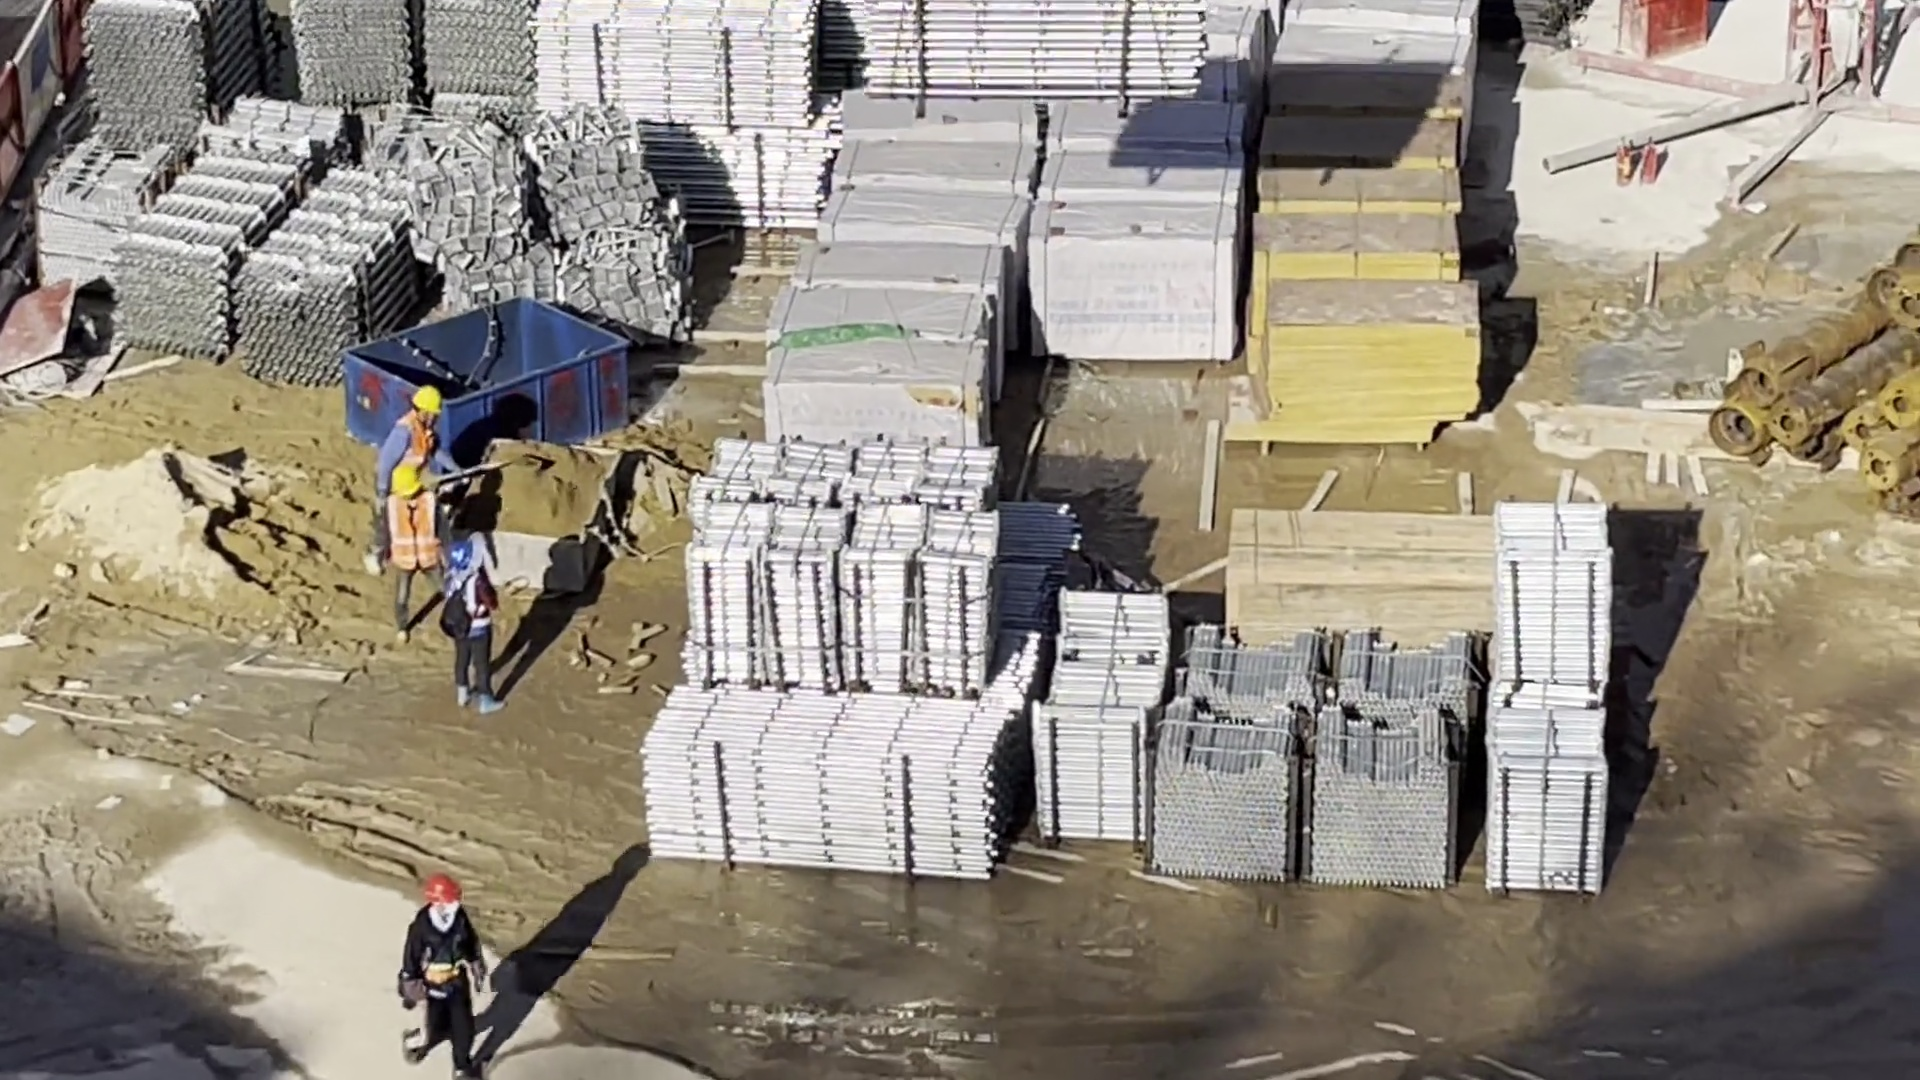board: (1259, 85, 1470, 427), (1231, 504, 1498, 627)
helmet: (422, 876, 462, 904), (390, 467, 420, 497), (411, 388, 442, 416), (453, 543, 473, 568)
hopper: (347, 297, 631, 450), (469, 438, 617, 596)
person: (405, 879, 484, 1080), (371, 469, 443, 651), (450, 537, 501, 718), (379, 388, 443, 491)
scaffold: (1161, 627, 1474, 888), (689, 439, 1001, 692), (648, 677, 1032, 879), (532, 1, 835, 220), (116, 162, 415, 373), (1497, 506, 1605, 888), (861, 6, 1206, 112), (1036, 595, 1167, 845), (290, 1, 538, 116), (92, 1, 278, 141)
vest: (394, 493, 436, 565), (385, 415, 432, 477), (444, 579, 489, 641)
